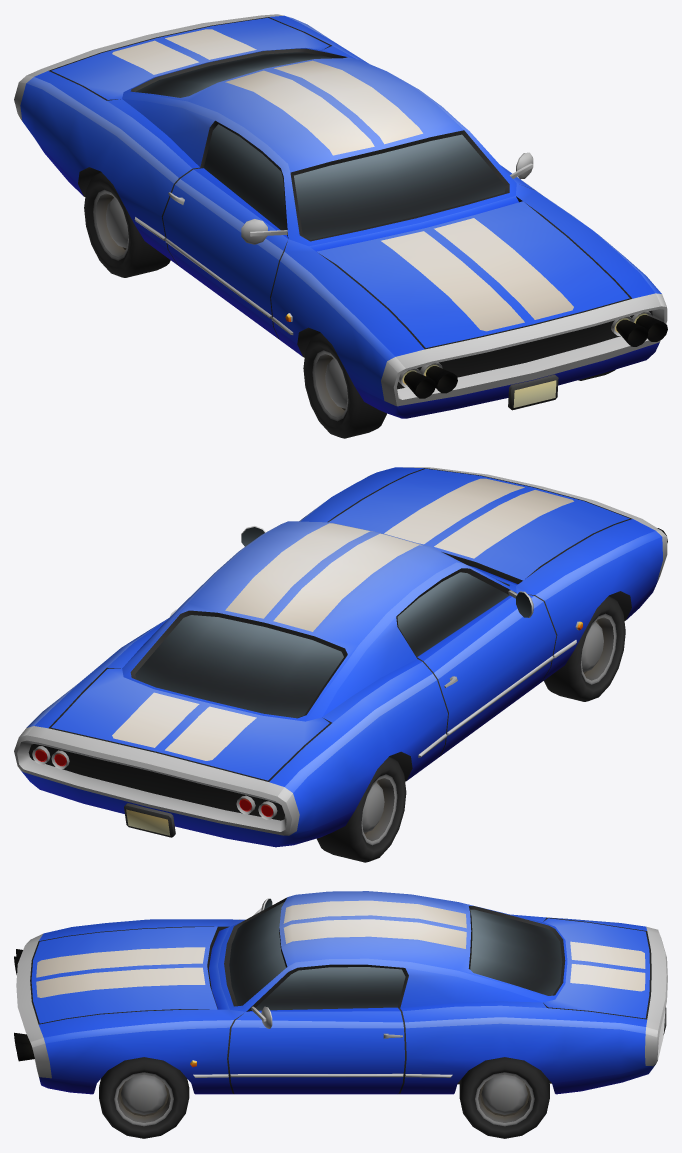
File: Car_23C.fbx
The picture shows the model from 3 angles, top to bottom: view 1: azimuth 30°, elevation 25°; view 2: azimuth 150°, elevation 25°; view 3: azimuth 270°, elevation 25°; orthographic projection. The views are drawn at different scales.
Visible parts, largest first — view 1: Car_23C, Car_23C_Wheel_R.R, Car_23C_Wheel_F.R, Car_23C_Rays; view 2: Car_23C, Car_23C_Wheel_R.R, Car_23C_Wheel_F.R; view 3: Car_23C, Car_23C_Wheel_R.L, Car_23C_Wheel_F.L, Car_23C_Rays.
Boxes of the visible parts, <box> form: Car_23C: <box>14,14,667,418</box>; Car_23C_Wheel_R.R: <box>84,172,170,277</box>; Car_23C_Wheel_F.R: <box>303,332,386,438</box>; Car_23C_Rays: <box>404,315,667,398</box>; Car_23C: <box>14,467,667,847</box>; Car_23C_Wheel_R.R: <box>317,756,406,862</box>; Car_23C_Wheel_F.R: <box>544,596,625,701</box>; Car_23C: <box>16,891,667,1094</box>; Car_23C_Wheel_R.L: <box>459,1057,549,1138</box>; Car_23C_Wheel_F.L: <box>99,1057,189,1138</box>; Car_23C_Rays: <box>14,949,34,1061</box>.
Size of the model in its own units: 259 by 173 by 607.
